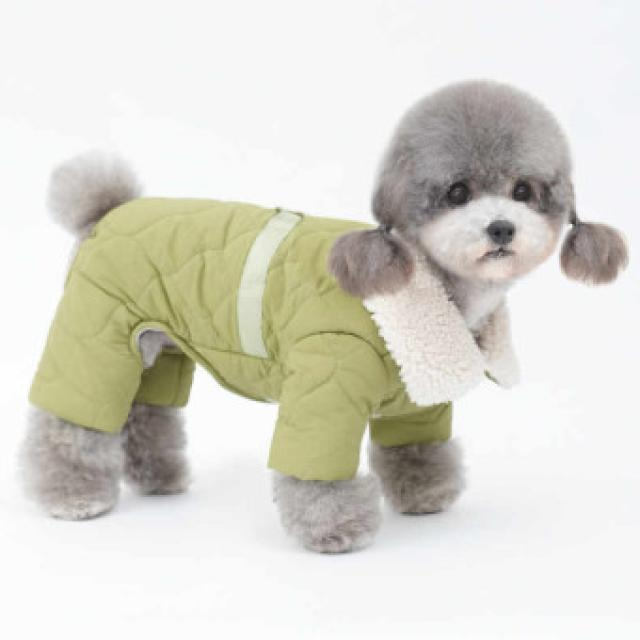cloth: (31, 199, 518, 481)
